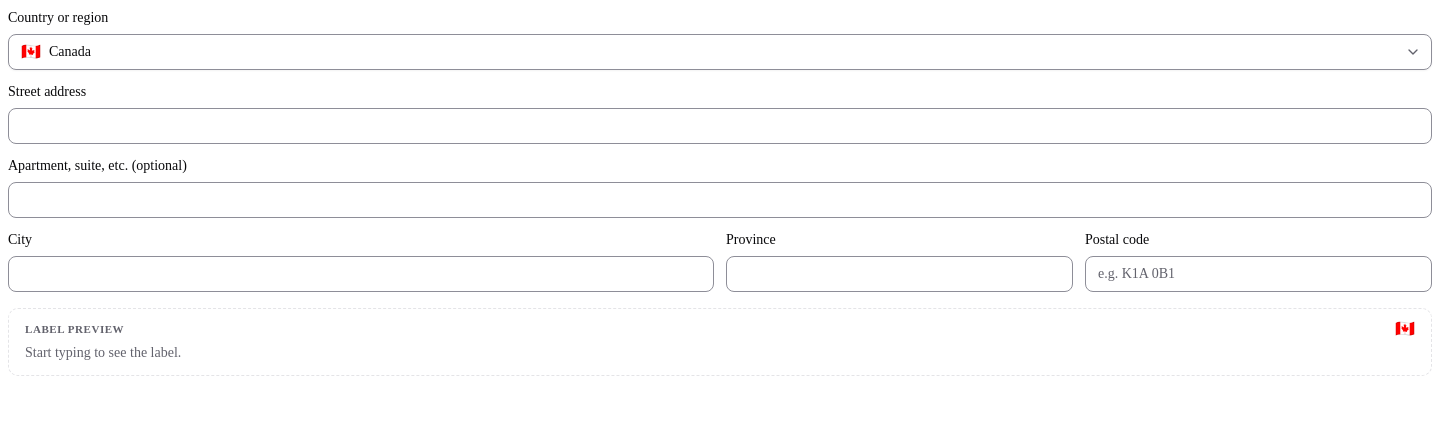
Test: AddressInput › shows the postcode error after blur
The image size is (1440, 443).
Type "k1a" into the field labelled "Postal code".
click(1258, 274); type("k1a")  # box [1085, 256, 1432, 292]
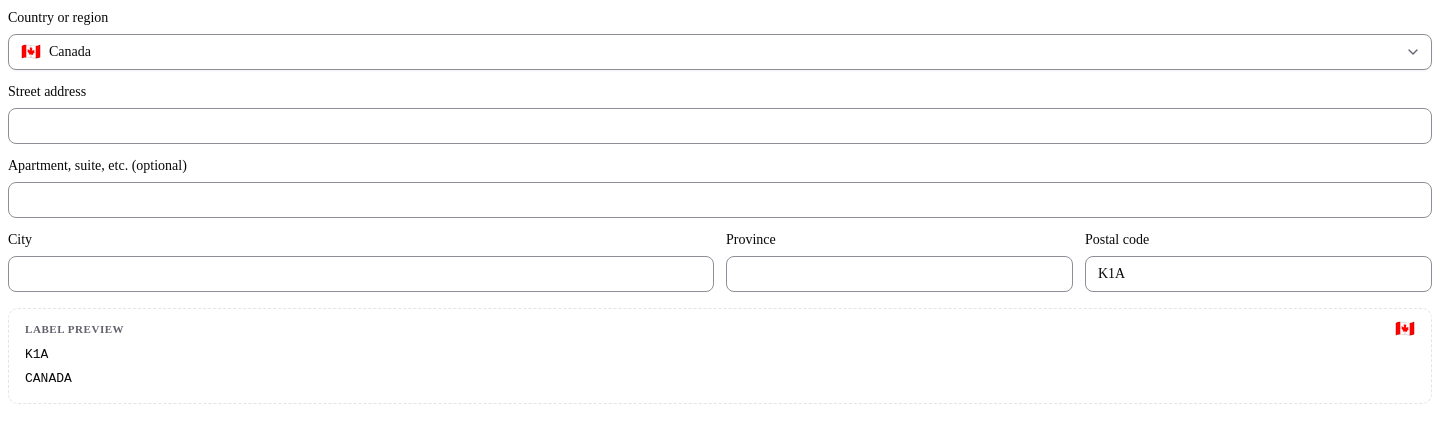
Leave the field labelled "Postal code", box [1085, 256, 1432, 292]
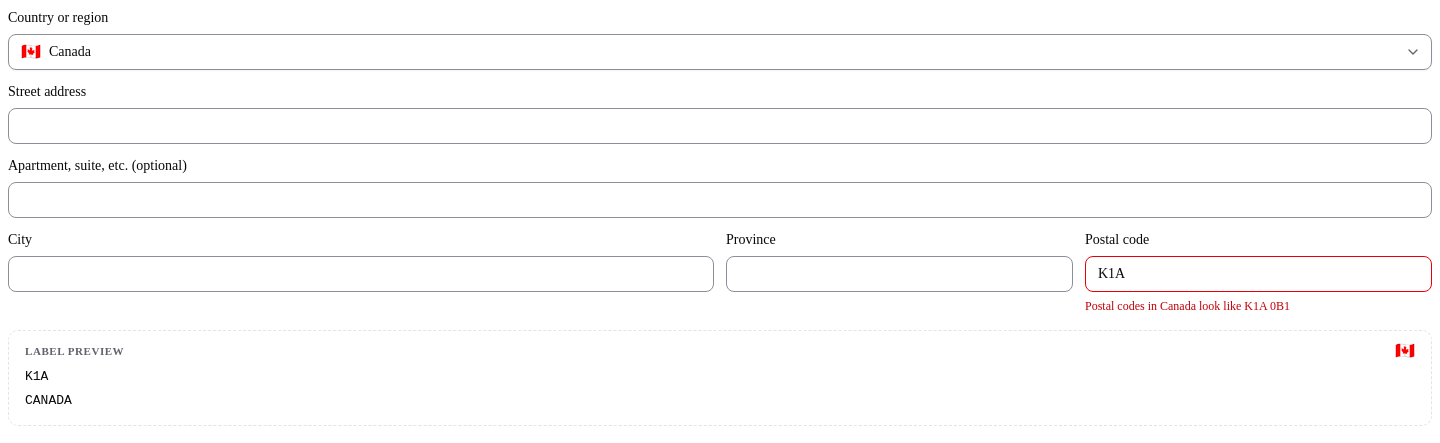
Check: the text "Postal codes in Canada look like K1A 0B1" is shown, box [1085, 299, 1290, 313]
